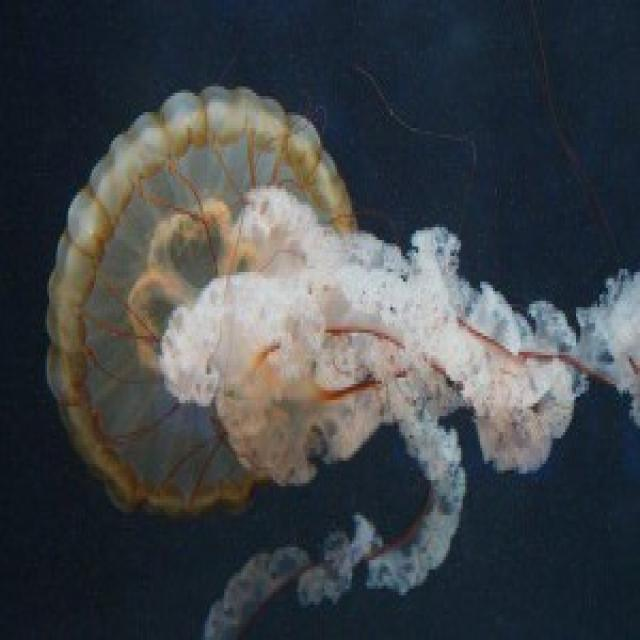Jellyfish: (25, 48, 640, 620)
